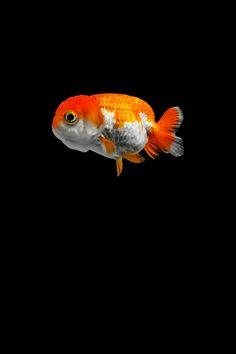goldfish: (32, 79, 198, 184)
